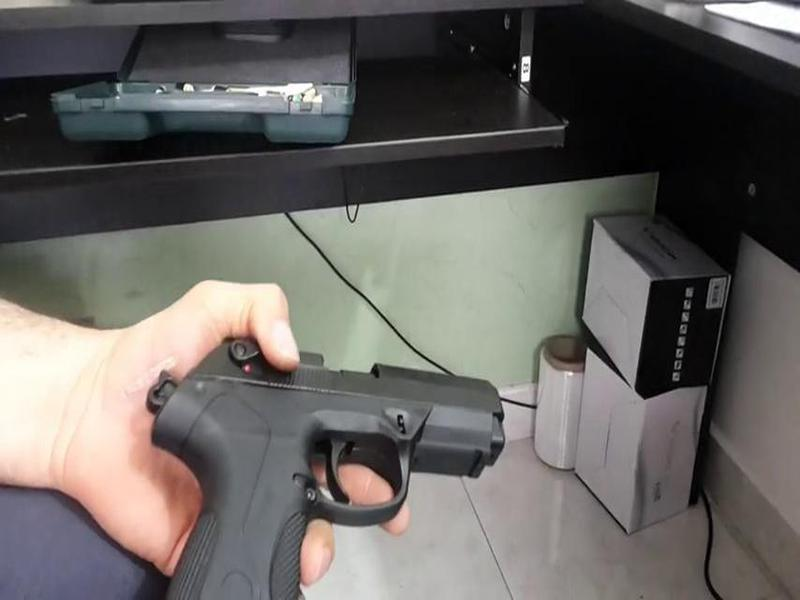Pistola: (139, 318, 521, 600)
